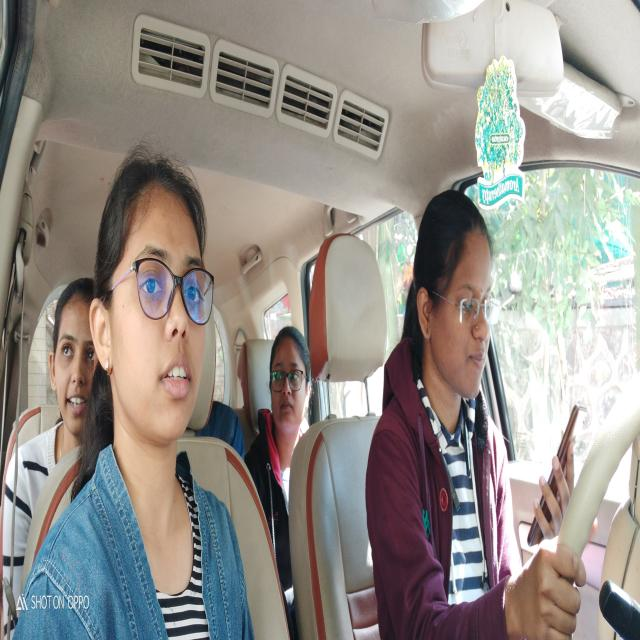mobile: (525, 388, 588, 557)
person: (87, 140, 216, 474), (408, 184, 504, 444), (46, 272, 102, 423), (266, 318, 314, 448)
